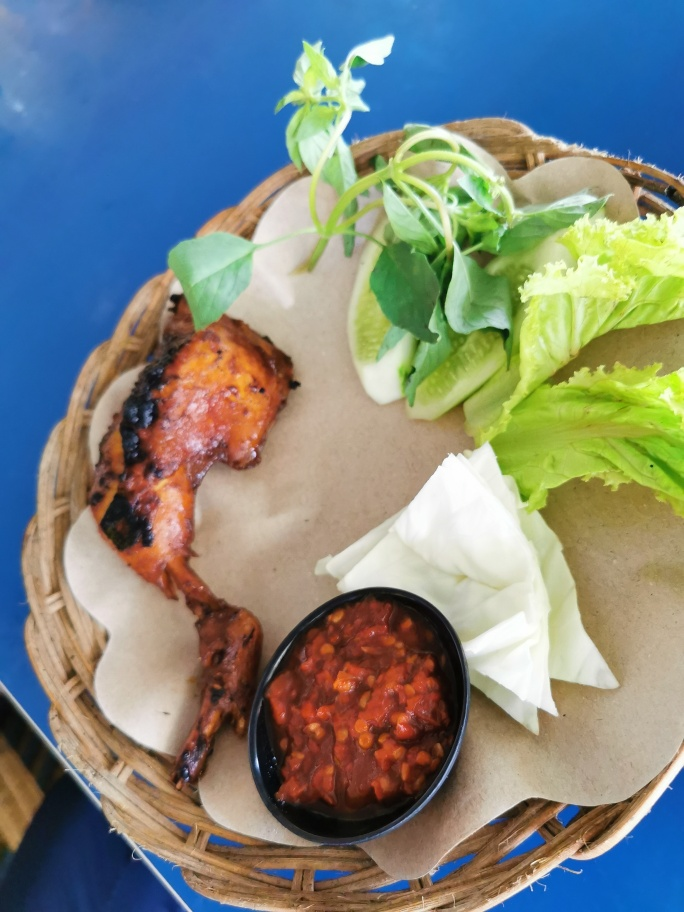ayam bakar: (88, 284, 322, 791)
